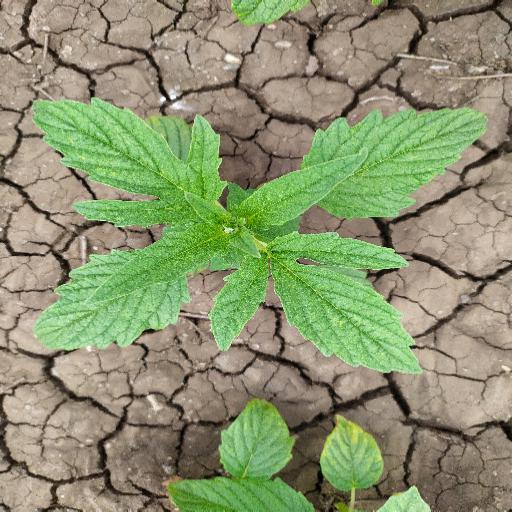crop: (19, 88, 490, 378)
